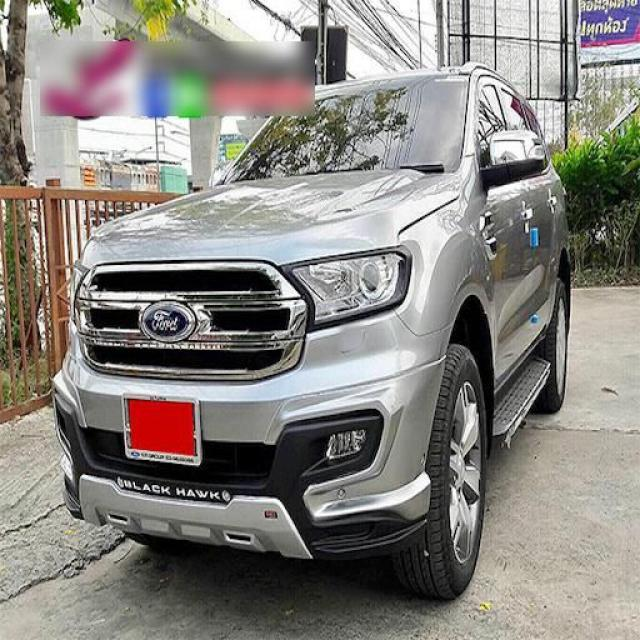back_left_door: (497, 79, 557, 347)
front_bumper: (50, 245, 455, 560)
front_glass: (225, 74, 471, 179)
front_left_door: (473, 76, 531, 379)
front_left_light: (292, 253, 407, 325)
hood: (79, 170, 460, 269)
left_mirror: (478, 128, 550, 188)
wheel: (390, 344, 488, 602), (547, 277, 568, 410)
